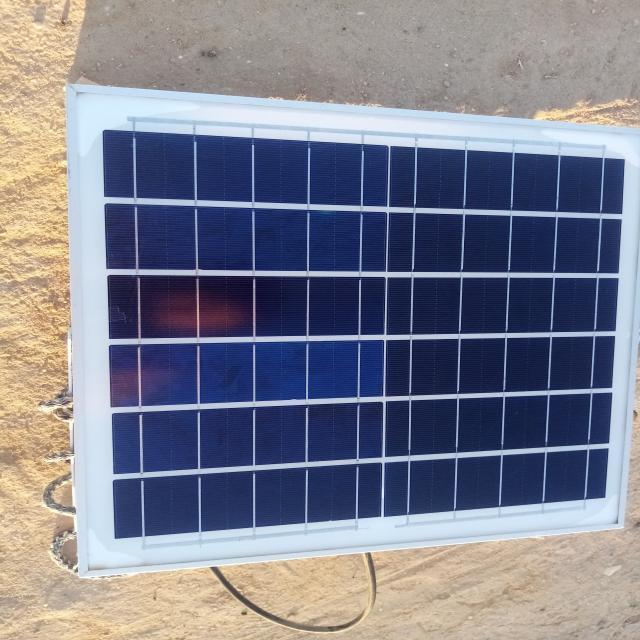Normal Solar Panel: (72, 89, 640, 572)
